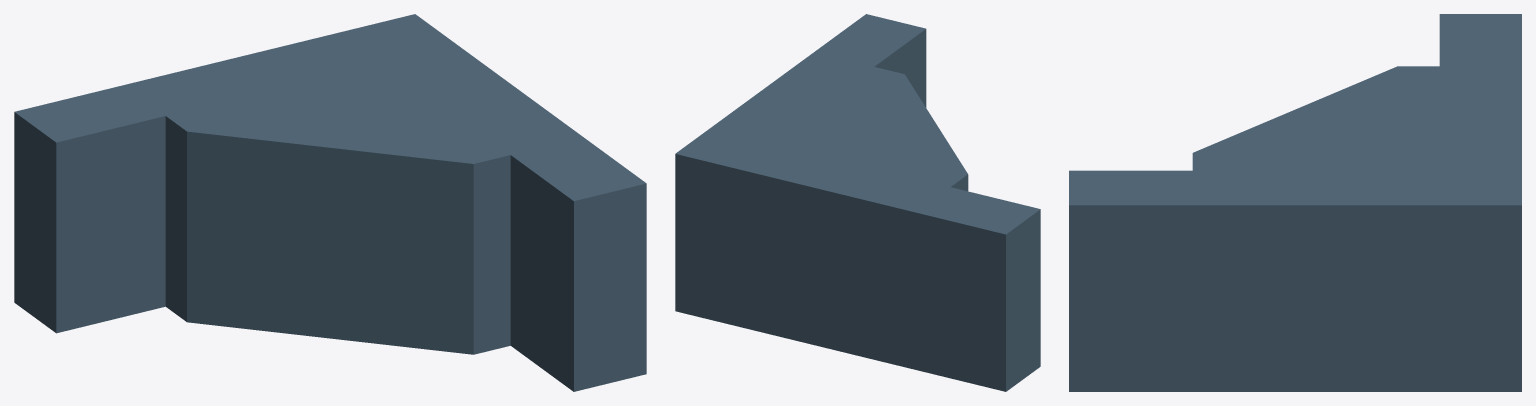
The model's file is W1_WallCorner_Angular2B_Top.fbx.
3 renders of one model, left to right at view 1: azimuth 30°, elevation 25°; view 2: azimuth 150°, elevation 25°; view 3: azimuth 270°, elevation 25°, orthographic. The views are drawn at different scales.
Parts seen in each view (by area): view 1: W1_WallCorner_Angular2B_Top.001; view 2: W1_WallCorner_Angular2B_Top.001; view 3: W1_WallCorner_Angular2B_Top.001.
Boxes of the visible parts, x1,y1,x2,y2 form: W1_WallCorner_Angular2B_Top.001: (14, 14, 646, 391); W1_WallCorner_Angular2B_Top.001: (675, 14, 1040, 391); W1_WallCorner_Angular2B_Top.001: (1069, 14, 1521, 391).
Size of the model in its own units: 1.1 by 0.5 by 1.1.
